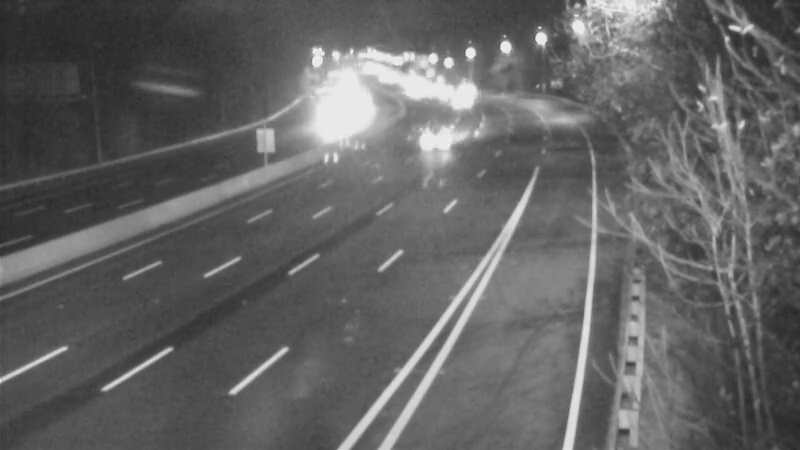vehicle: (432, 75, 482, 125), (414, 112, 464, 162)
